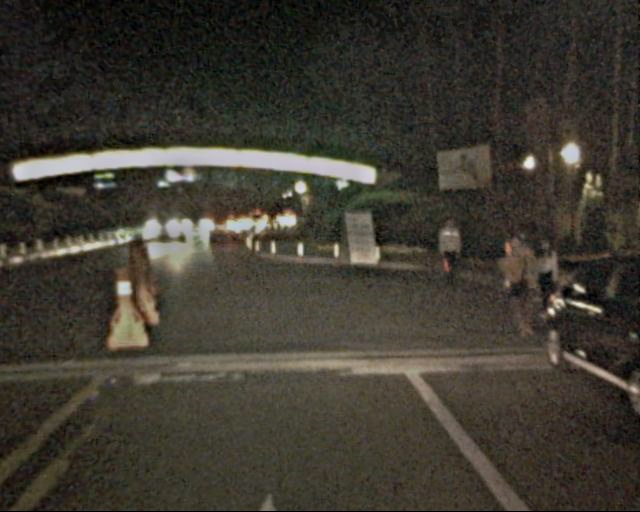person: (496, 236, 533, 329), (526, 235, 564, 325), (436, 217, 463, 283)
